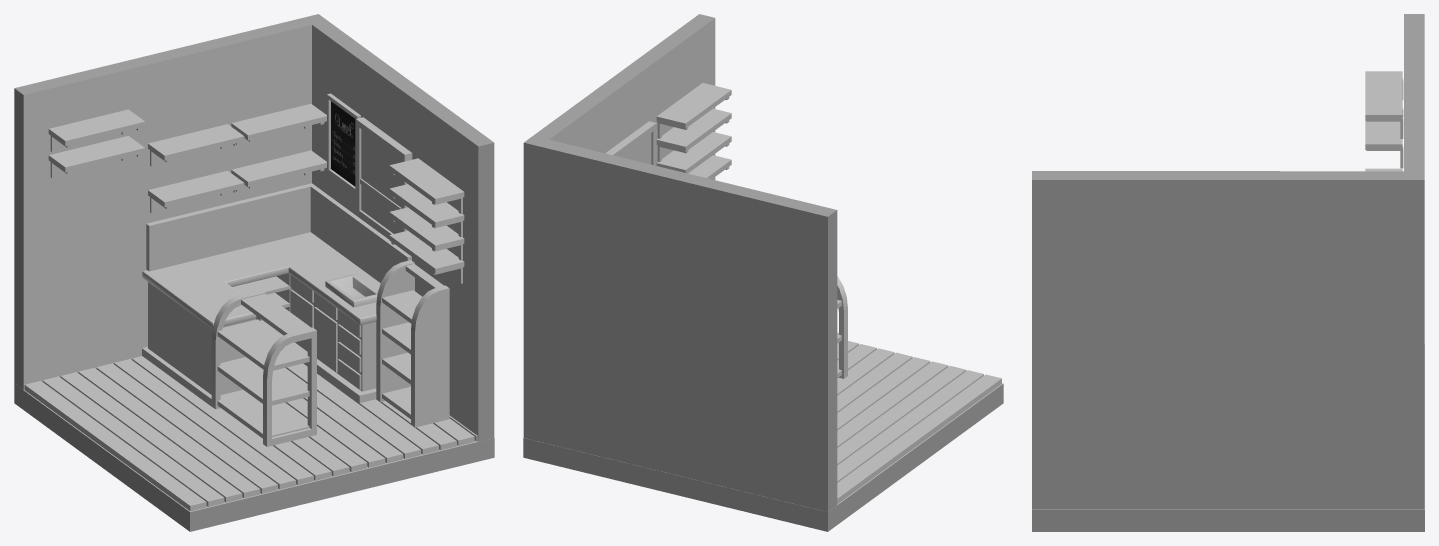
File: 1_coffeeShop_posta.fbx
3 renders of one model, left to right at view 1: azimuth 30°, elevation 25°; view 2: azimuth 150°, elevation 25°; view 3: azimuth 270°, elevation 25°, orthographic. The views are drawn at different scales.
Visible parts, largest first — view 1: Isometric_cafe; view 2: Isometric_cafe; view 3: Isometric_cafe.
Part boxes in pixels (x1=…): Isometric_cafe: x1=14, y1=14, x2=494, y2=531; Isometric_cafe: x1=523, y1=14, x2=1003, y2=531; Isometric_cafe: x1=1032, y1=14, x2=1424, y2=531.
Bounding box in the file's own units: 200 × 198 × 200.
